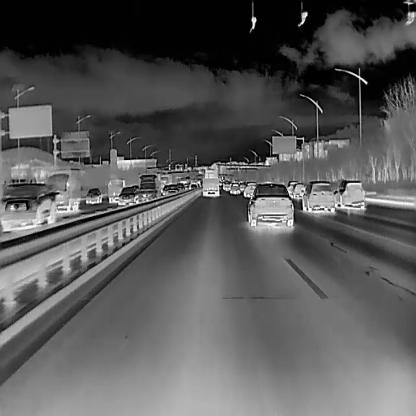car: (0, 180, 63, 233), (246, 182, 294, 225), (301, 178, 335, 214), (332, 178, 366, 210), (117, 184, 137, 206), (86, 186, 102, 204), (164, 183, 179, 198), (290, 182, 305, 197), (242, 184, 256, 198), (284, 179, 296, 195), (229, 184, 240, 194), (222, 182, 232, 192), (176, 181, 184, 192)
truck: (46, 166, 83, 211), (137, 173, 163, 204), (105, 176, 126, 203), (201, 169, 219, 196)
